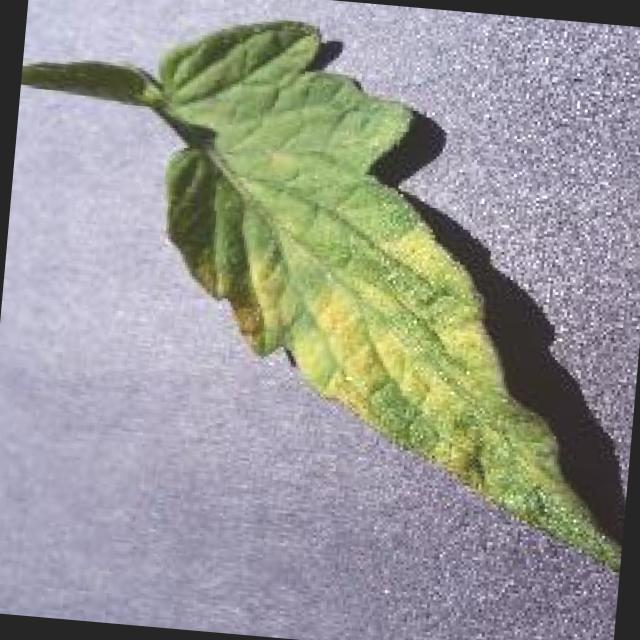leaf mold: (20, 24, 622, 565)
